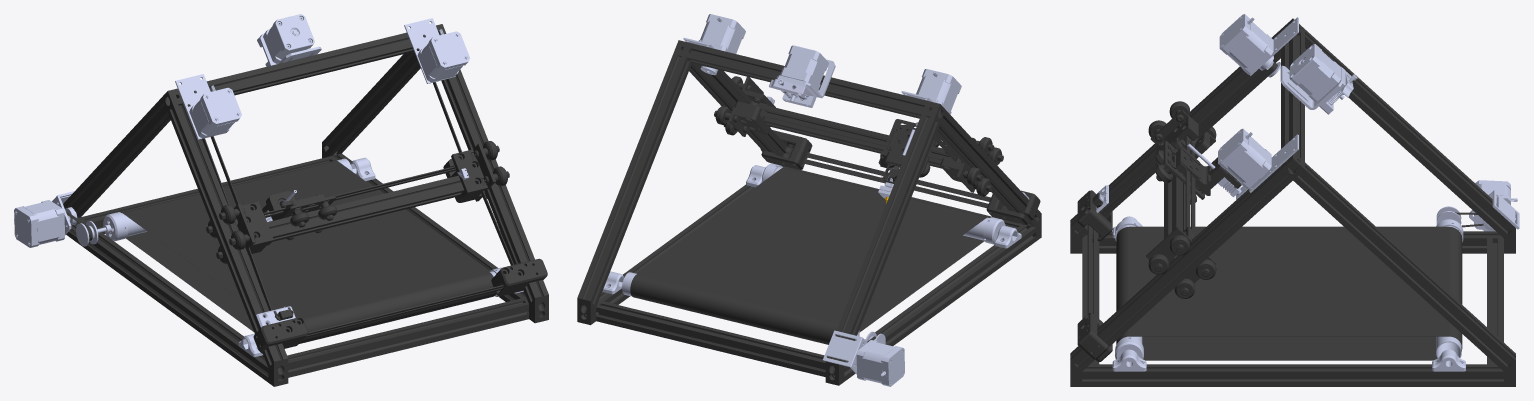
File: PrinterCR30.fbx
3 renders of one model, left to right at view 1: azimuth 30°, elevation 25°; view 2: azimuth 150°, elevation 25°; view 3: azimuth 270°, elevation 25°, orthographic. The views are drawn at different scales.
Visible parts, largest first — view 1: Belt1-2388.STEP-1 - Part, 350mm_extrusion.STEP-6 - Part, 350mm_extrusion.STEP-4 - Part, 500mm_extrusion.STEP-2 - Part, 350mm_extrusion.STEP-5 - Part, 310mm_extrusion.STEP-1 - Part, 350mm_extrusion.STEP-3 - Part, 350mm_extrusion.STEP-1 - Part, 350mm_extrusion.STEP-2 - Part, Belt4-5.STEP-1 - Part, NEMA17_17HS19-2004S1_Stepperonline___ _________.STEP-1 - Par, NEMA17_17HS19-2004S1_Stepperonline___ _________.STEP-3 - Par (+16 smaller); view 2: Belt1-2388.STEP-1 - Part, 350mm_extrusion.STEP-2 - Part, 350mm_extrusion.STEP-1 - Part, 350mm_extrusion.STEP-7 - Part, 500mm_extrusion.STEP-2 - Part, 350mm_extrusion.STEP-5 - Part, 350mm_extrusion.STEP-4 - Part, Belt4-5.STEP-1 - Part, Belt3-4.STEP-1 - Part, NEMA17_17HS19-2004S1_Stepperonline___ _________.STEP-1 - Par, 500mm_extrusion.STEP-1 - Part, 310mm_extrusion.STEP-1 - Part (+20 smaller); view 3: Belt1-2388.STEP-1 - Part, 500mm_extrusion.STEP-1 - Part, 350mm_extrusion.STEP-2 - Part, 350mm_extrusion.STEP-3 - Part, 350mm_extrusion.STEP-1 - Part, 350mm_extrusion.STEP-4 - Part, Belt3-4.STEP-1 - Part, NEMA17_17HS19-2004S1_Stepperonline___ _________.STEP-3 - Par, NEMA17_17HS19-2004S1_Stepperonline___ _________.STEP-2 - Par, 350mm_extrusion.STEP-5 - Part, 350mm_extrusion.STEP-7 - Part, Belt4-5.STEP-1 - Part (+22 smaller).
Boxes of the visible parts, x1,y1,x2,y2 form: Belt1-2388.STEP-1 - Part: (121,160,495,343); 350mm_extrusion.STEP-6 - Part: (287,298,528,377); 350mm_extrusion.STEP-4 - Part: (168,103,287,367); 500mm_extrusion.STEP-2 - Part: (67,217,268,382); 350mm_extrusion.STEP-5 - Part: (189,32,425,106); 310mm_extrusion.STEP-1 - Part: (255,175,463,241); 350mm_extrusion.STEP-3 - Part: (441,69,548,303); 350mm_extrusion.STEP-1 - Part: (63,97,170,217); 350mm_extrusion.STEP-2 - Part: (322,50,420,156); Belt4-5.STEP-1 - Part: (237,80,517,335); NEMA17_17HS19-2004S1_Stepperonline___ _________.STEP-1 - Par: (14,200,64,247); NEMA17_17HS19-2004S1_Stepperonline___ _________.STEP-3 - Par: (189,85,241,138); Belt1-2388.STEP-1 - Part: (630,167,989,344); 350mm_extrusion.STEP-2 - Part: (577,54,691,306); 350mm_extrusion.STEP-1 - Part: (827,114,939,367); 350mm_extrusion.STEP-7 - Part: (596,301,825,376); 500mm_extrusion.STEP-2 - Part: (844,224,1036,381); 350mm_extrusion.STEP-5 - Part: (686,43,926,118); 350mm_extrusion.STEP-4 - Part: (937,110,1041,227); Belt4-5.STEP-1 - Part: (715,69,1003,205); Belt3-4.STEP-1 - Part: (759,111,1010,211); NEMA17_17HS19-2004S1_Stepperonline___ _________.STEP-1 - Par: (856,340,904,386); 500mm_extrusion.STEP-1 - Part: (596,166,787,315); 310mm_extrusion.STEP-1 - Part: (764,111,949,168); Belt1-2388.STEP-1 - Part: (1116,226,1462,360); 500mm_extrusion.STEP-1 - Part: (1082,364,1503,386); 350mm_extrusion.STEP-2 - Part: (1293,162,1515,371); 350mm_extrusion.STEP-3 - Part: (1070,166,1292,371); 350mm_extrusion.STEP-1 - Part: (1305,29,1515,237); 350mm_extrusion.STEP-4 - Part: (1070,29,1280,237); Belt3-4.STEP-1 - Part: (1093,61,1277,317); NEMA17_17HS19-2004S1_Stepperonline___ _________.STEP-3 - Par: (1219,14,1273,74); NEMA17_17HS19-2004S1_Stepperonline___ _________.STEP-2 - Par: (1218,128,1271,189); 350mm_extrusion.STEP-5 - Part: (1281,33,1304,161); 350mm_extrusion.STEP-7 - Part: (1487,238,1503,364); Belt4-5.STEP-1 - Part: (1087,135,1249,314).
Size of the model in its own units: 46.52 by 34.2 by 52.78.
